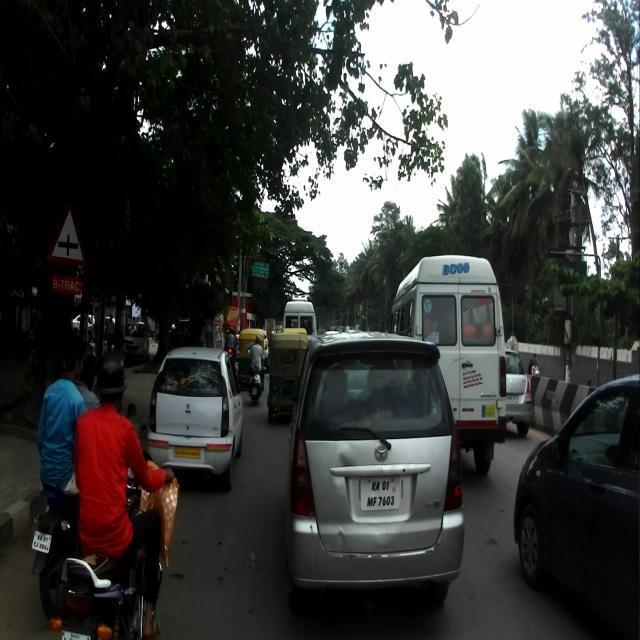Car_TATA: (145, 342, 245, 491)
Car_Toyota: (281, 327, 466, 614)
mini-bus: (389, 254, 507, 478)
